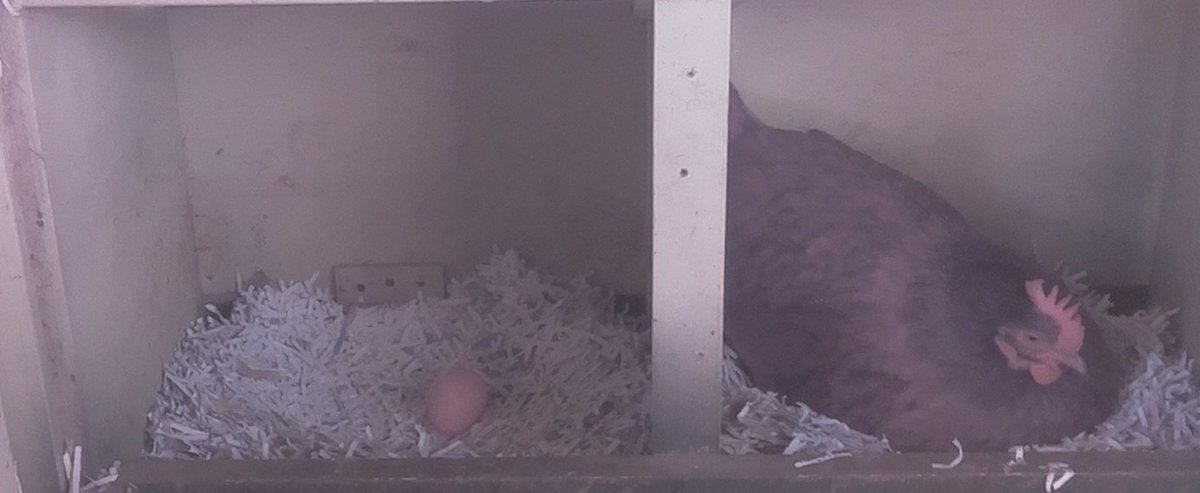egg: (426, 366, 495, 439)
hen: (733, 81, 1131, 445)
